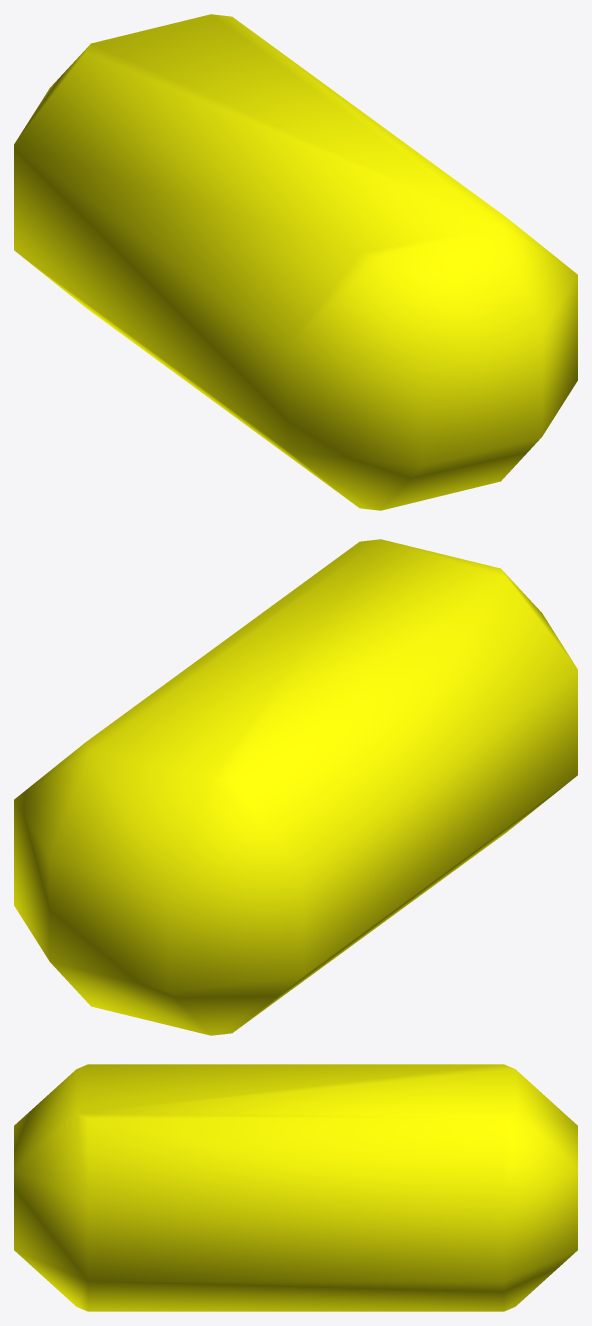
Rendered from forearm_link.bbox.gltf.
3 views of the same model, one above another, from view 1: azimuth 30°, elevation 25°; view 2: azimuth 150°, elevation 25°; view 3: azimuth 270°, elevation 25° (orthographic). The views are drawn at different scales.
Parts seen in each view (by area): view 1: forearm_link.bbox; view 2: forearm_link.bbox; view 3: forearm_link.bbox.
Boxes of the visible parts, left/top/right/bottom form: forearm_link.bbox: left=14, top=14, right=577, bottom=510; forearm_link.bbox: left=14, top=539, right=577, bottom=1035; forearm_link.bbox: left=14, top=1064, right=577, bottom=1311.
Size of the model in its own units: 0.0805 by 0.0678 by 0.1792.
